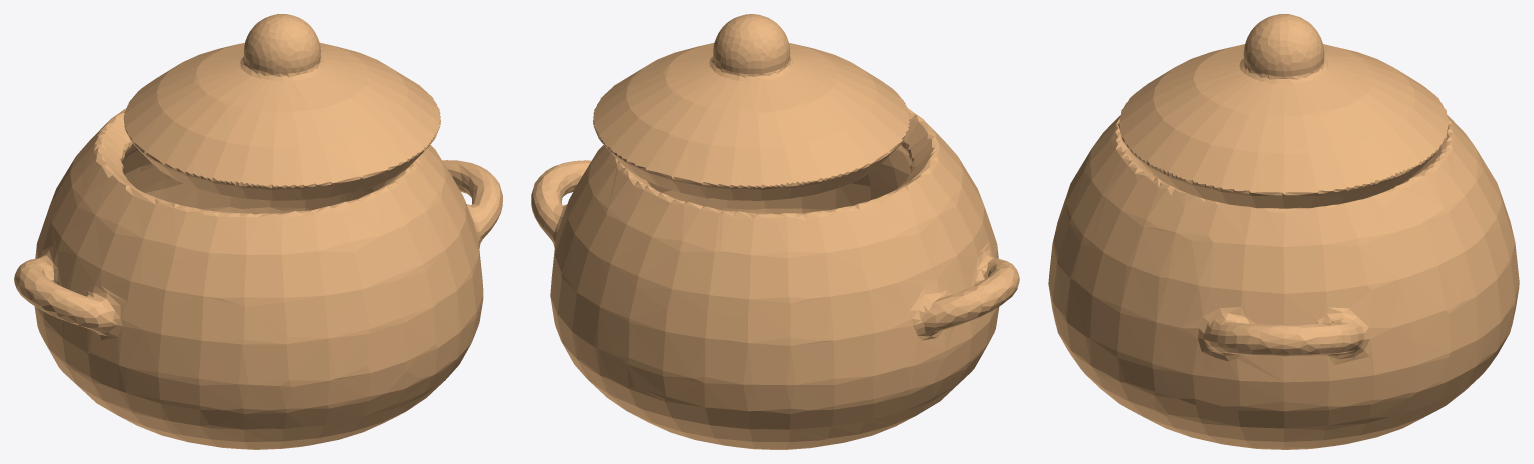
The model's file is ThePot.fbx.
The picture shows the model from 3 angles, left to right: view 1: azimuth 30°, elevation 25°; view 2: azimuth 150°, elevation 25°; view 3: azimuth 270°, elevation 25°; orthographic projection. The views are drawn at different scales.
Visible parts, largest first — view 1: Pot; view 2: Pot; view 3: Pot.
Part boxes in pixels (<box>): Pot: <box>14,14,502,449</box>; Pot: <box>531,14,1019,449</box>; Pot: <box>1048,14,1519,449</box>.
Bounding box in the file's own units: 238 × 184 × 200.
